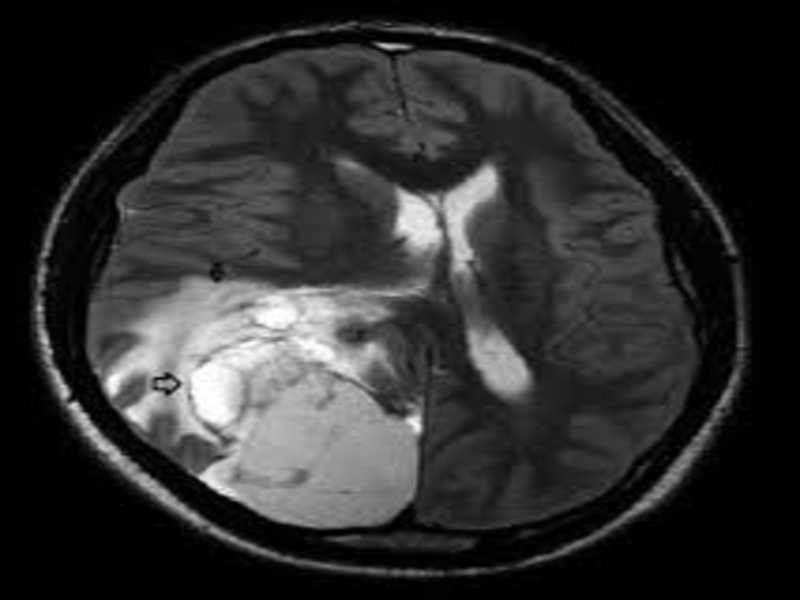tumor: (186, 353, 261, 440)
